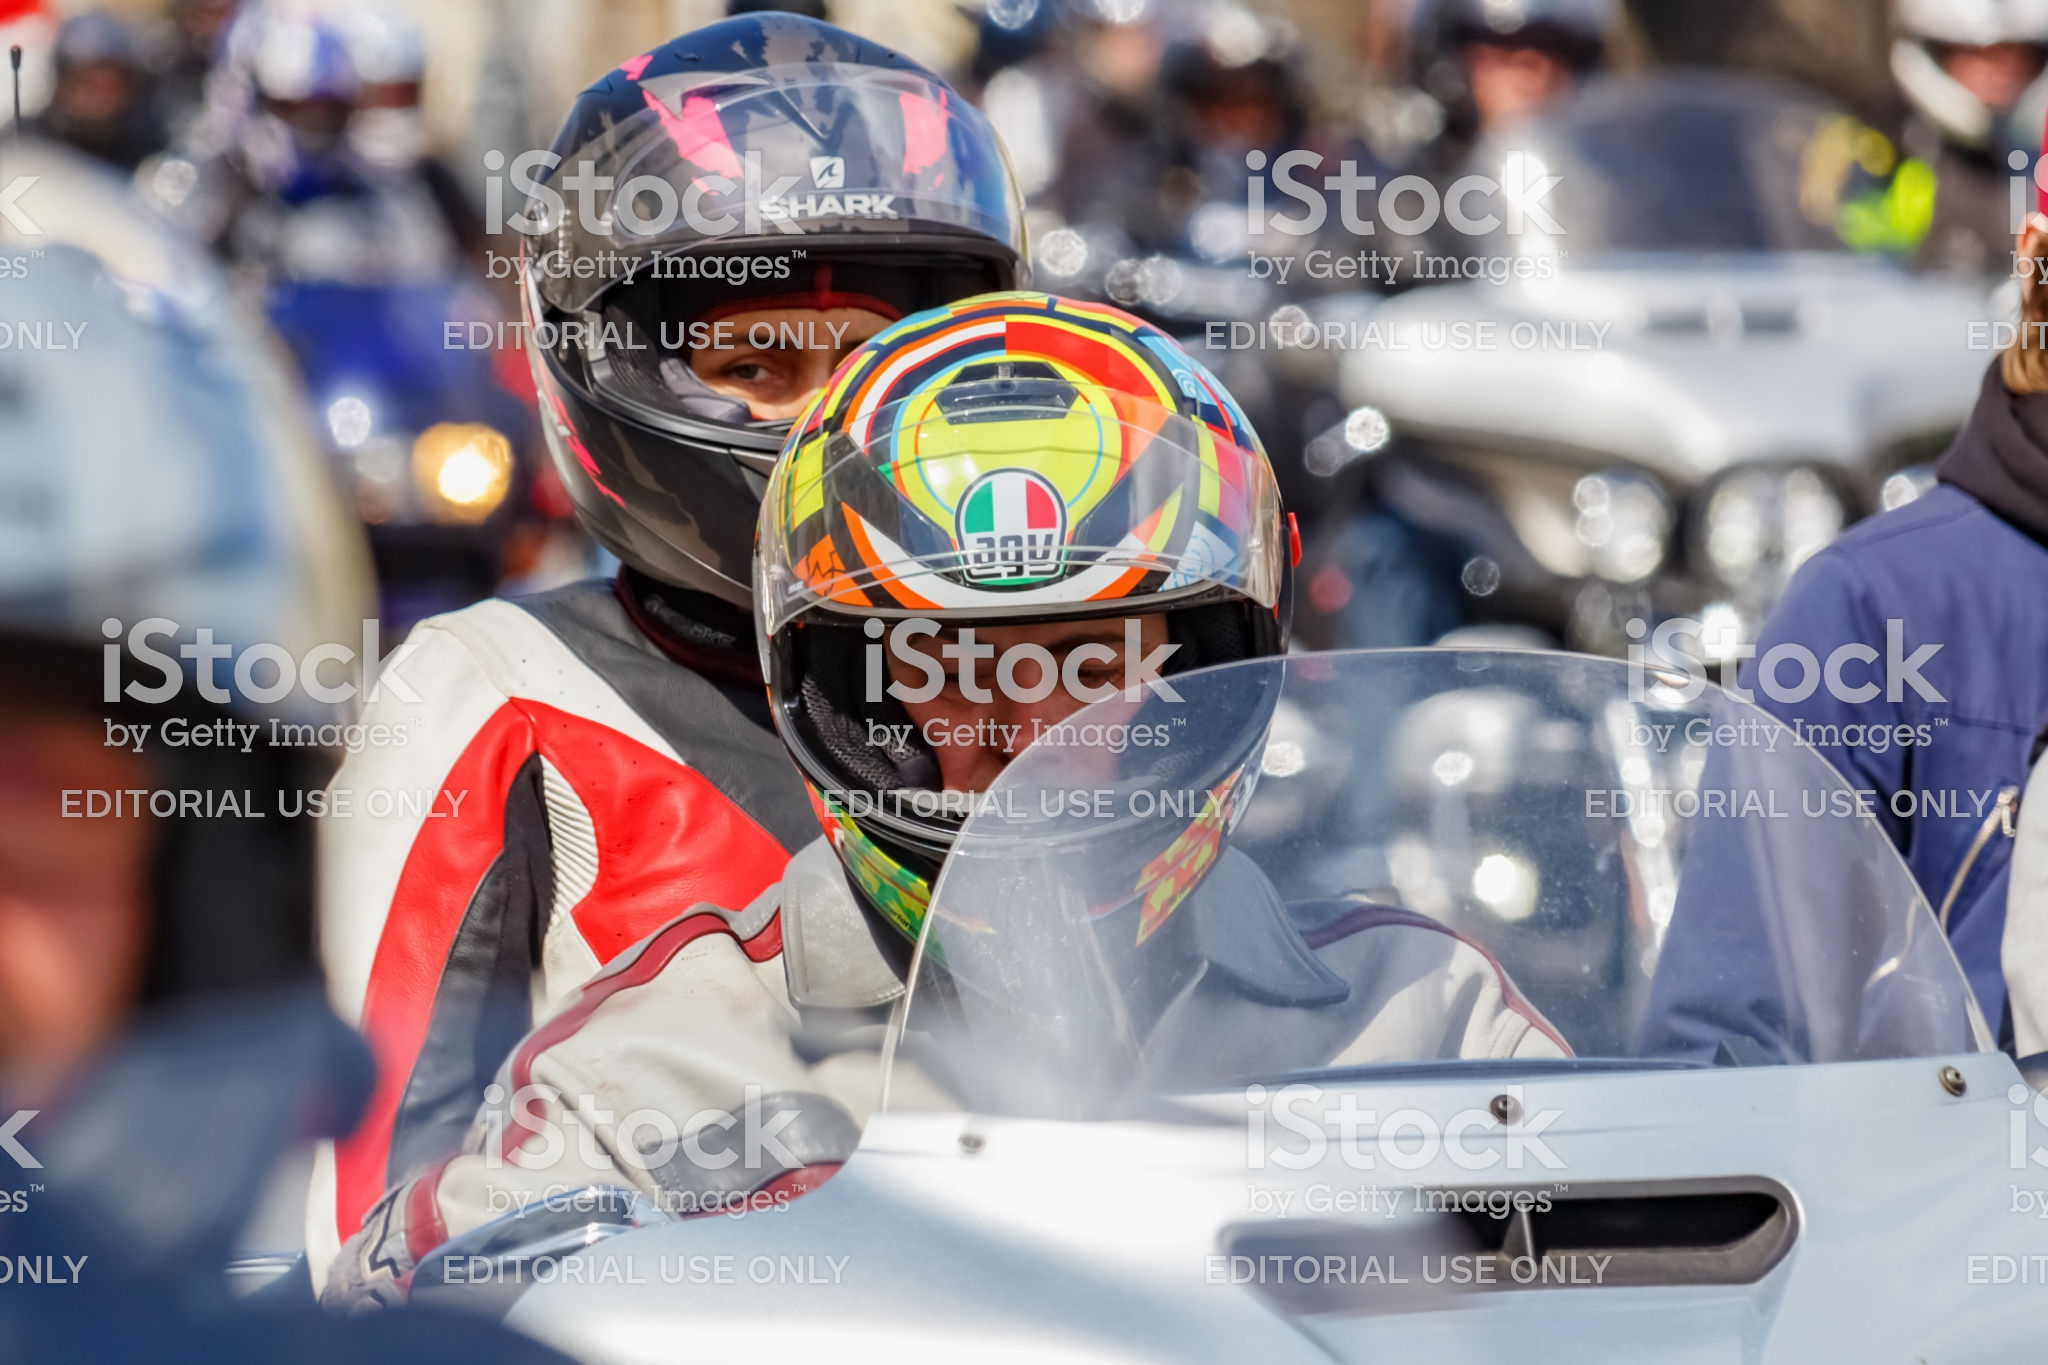helmet: (746, 305, 1302, 931), (513, 50, 1052, 611)
